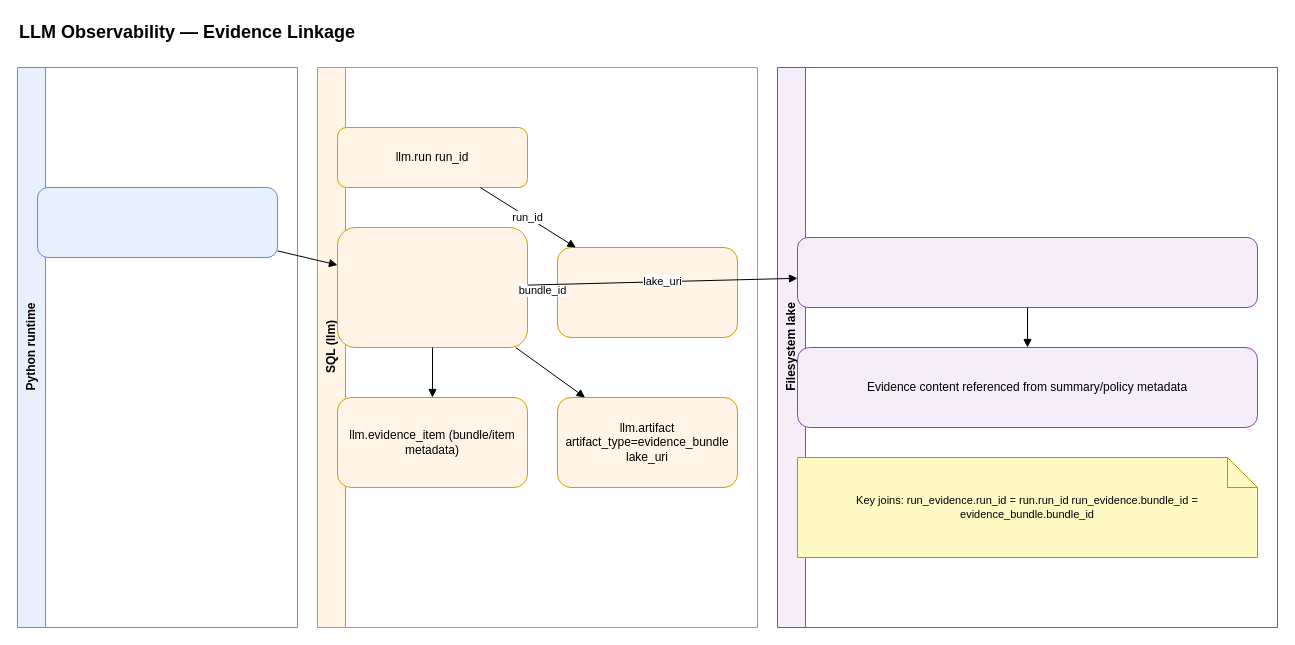
Image size: 1295x645. Some labels were removed from this diagram. Each missing label, with the centre of its shape:
"evidence assembly (policy + references)" goes at point 157,222.
"lake/.../{run_id}/evidence.json" goes at point 1027,272.
"llm.evidence_bundle bundle_id policy_json summary_json lake_uri" goes at point 432,287.
"llm.run_evidence run_id + bundle_id attached_utc" goes at point 647,292.
